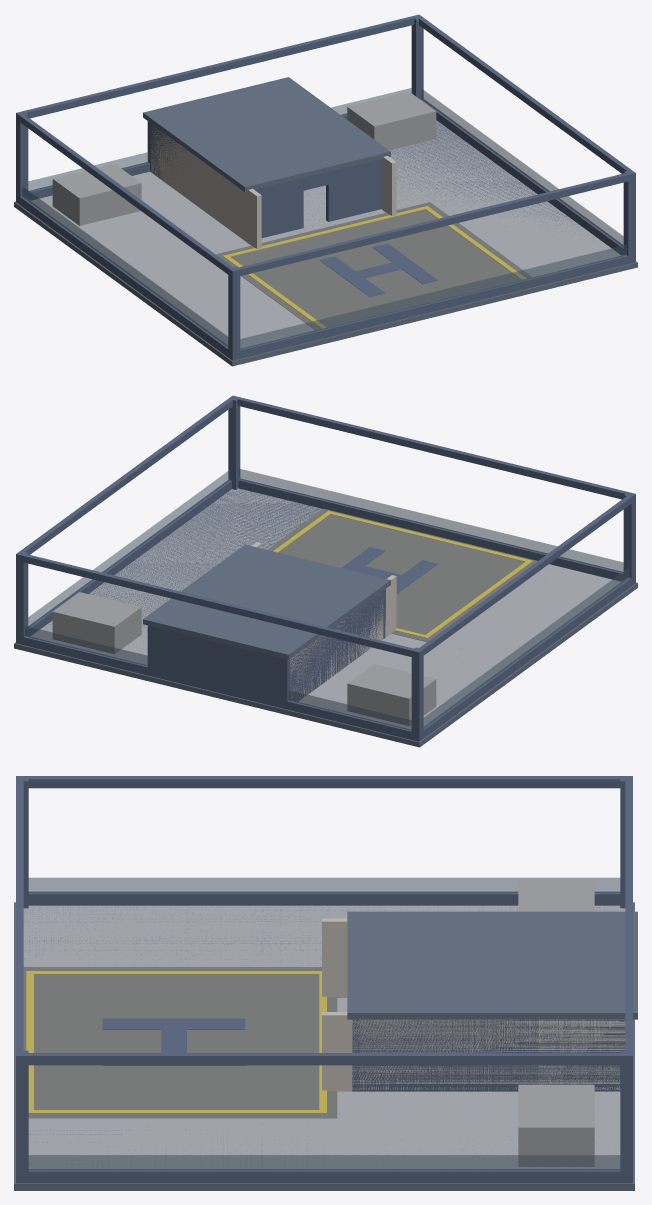
Rendered from office-roof-a.skyline-v2.lod0.glb.
3 renders of one model, top to bottom at view 1: azimuth 30°, elevation 25°; view 2: azimuth 150°, elevation 25°; view 3: azimuth 270°, elevation 25°, orthographic. The views are drawn at different scales.
Parts seen in each view (by area): view 1: office-roof-a; view 2: office-roof-a; view 3: office-roof-a.
Boxes of the visible parts, <box> form: office-roof-a: <box>14,14,637,366</box>; office-roof-a: <box>14,395,637,747</box>; office-roof-a: <box>14,776,637,1190</box>.
Bounding box in the file's own units: 26.16 × 5.8 × 24.48.
